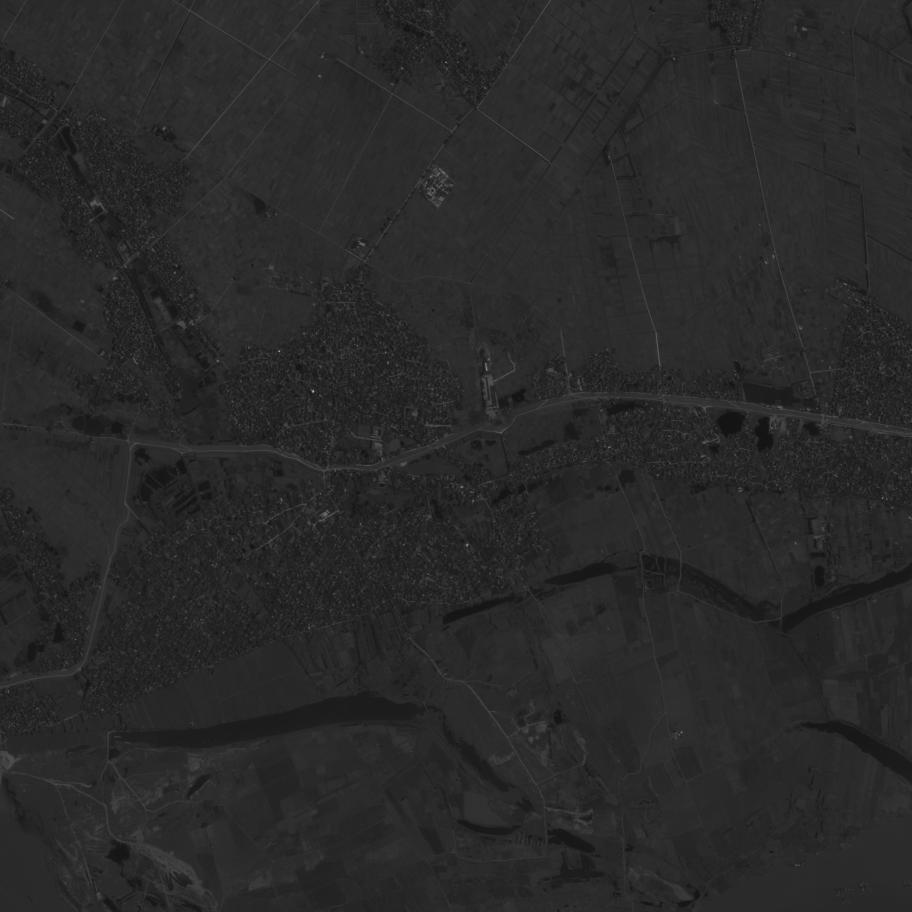ship: (832, 845, 842, 853), (859, 879, 868, 887), (836, 889, 846, 896), (834, 886, 844, 892), (797, 859, 808, 864), (861, 883, 871, 888), (835, 846, 843, 852), (852, 836, 861, 841), (851, 835, 860, 840), (815, 852, 824, 856), (841, 899, 850, 903), (834, 894, 844, 897), (841, 902, 851, 905), (861, 890, 871, 893), (838, 898, 845, 902), (815, 851, 824, 854), (840, 844, 849, 847), (861, 888, 870, 891), (904, 882, 912, 885), (904, 880, 911, 883), (794, 862, 804, 864), (841, 846, 851, 848), (843, 889, 853, 891), (793, 866, 802, 868), (794, 864, 803, 866), (839, 843, 848, 845), (842, 847, 851, 849)
